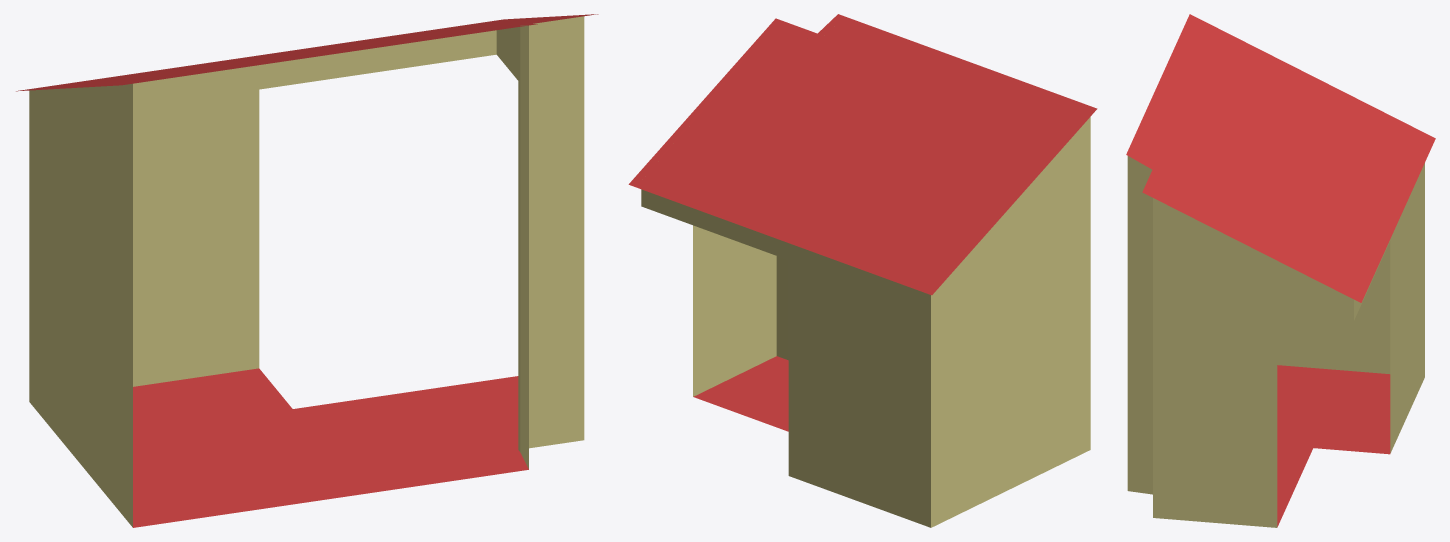
The picture shows the model from 3 angles, left to right: view 1: azimuth 30°, elevation 25°; view 2: azimuth 150°, elevation 25°; view 3: azimuth 270°, elevation 25°; orthographic projection. The views are drawn at different scales.
Bounding box in the file's own units: 11.91 × 8.44 × 10.23.
